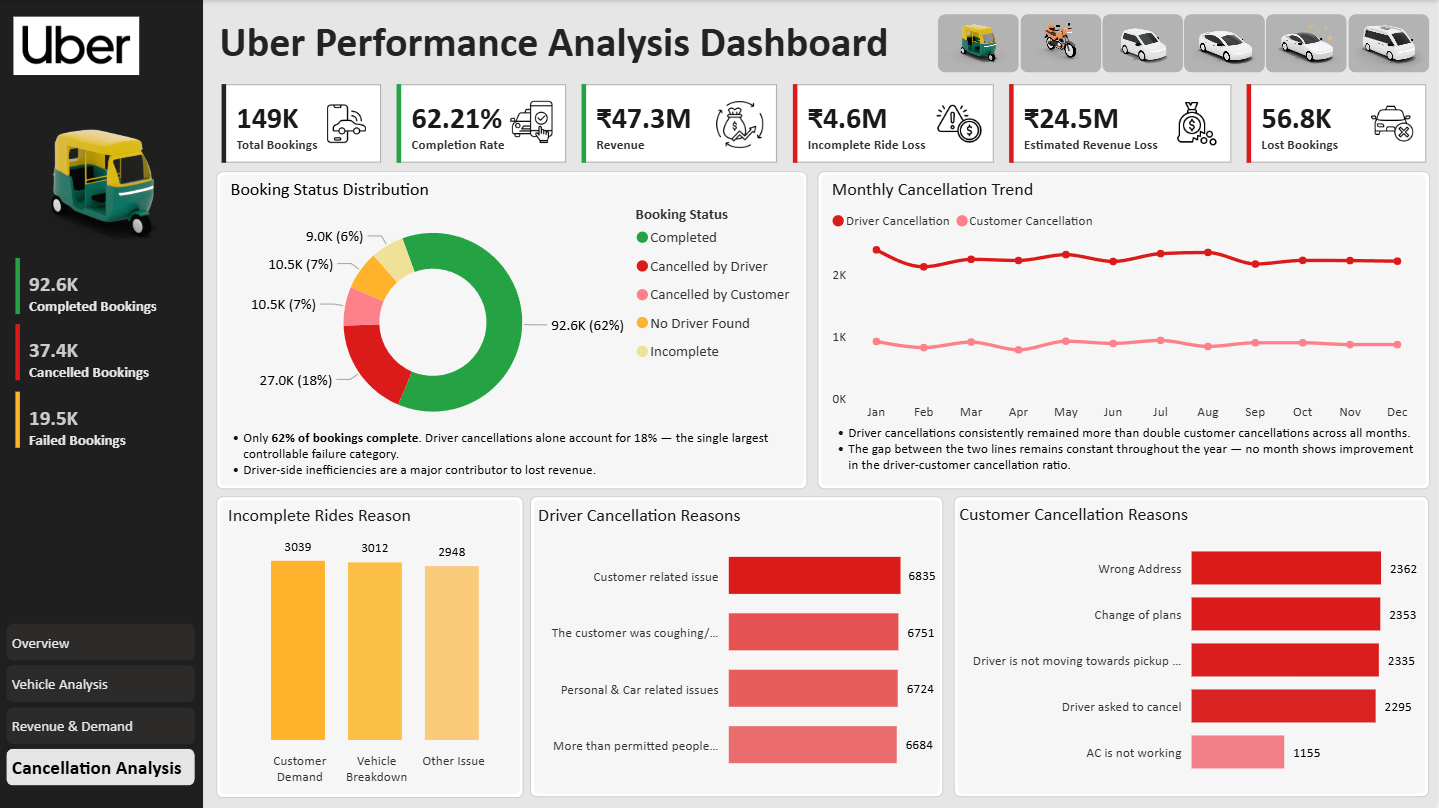

The dashboard page shown, as its layout file describes it:
{"tool":"powerbi","page":{"name":"Cancellation Analysis","canvas":[1280,720],"ordinal":3},"visuals":[{"type":"textbox","box":[190,10,640,57],"z":0},{"type":"shape","box":[727.5,152,545.3,283.5],"z":0,"group":"g6"},{"type":"shape","box":[849.7,441.6,423.5,268],"z":0,"group":"g4"},{"type":"cardVisual","fields":{"Data":["_Measures.completion_rate"]},"box":[348.6,70,161.8,80],"z":1000},{"type":"shape","box":[192.7,441.4,273.6,268.6],"z":1000,"group":"g2"},{"type":"cardVisual","fields":{"Data":["_Measures.incomplete_ride_loss"]},"box":[701.6,70,189.3,80],"z":2000},{"type":"cardVisual","fields":{"Data":["_Measures.lost_booking"]},"box":[1105.5,70,170.4,80],"z":3000},{"type":"cardVisual","fields":{"Data":["_Measures.total_bookings"]},"box":[192.7,70,152.7,80],"z":4000},{"type":"advancedSlicerVisual","fields":{"Values":["Veh_IMG.Vehicle Type"]},"box":[830,8,450,62.7],"z":5000},{"type":"cardVisual","fields":{"Data":["Min(Veh_IMG.Vehicle Type)"]},"box":[0,41,156.8,59.1],"z":6000},{"type":"cardVisual","fields":{"Data":["_Measures.estimated revenue loss"]},"box":[894.1,70,208.3,80],"z":7000},{"type":"group","id":"g1","title":"Group 1","box":[192.9,152.1,527.1,283.6],"z":8000},{"type":"lineChart","title":"Monthly Cancellation Trend","fields":{"Category":["calender.Month"],"Y":["_Measures.driver_cancellation","_Measures.customer_cancellation"]},"box":[735,157.1,530.7,220.7],"z":8000,"group":"g6"},{"type":"shape","box":[0,0,181,720.2],"z":9000,"group":"g5"},{"type":"cardVisual","fields":{"Data":["_Measures.total_booking_value"]},"box":[513.5,70,185,80],"z":9000},{"type":"image","box":[6,9.7,124.3,61.5],"z":10000,"group":"g5"},{"type":"shape","box":[192.9,152.1,526.2,283.5],"z":10000,"group":"g1"},{"type":"group","id":"g2","title":"Group 2","box":[192.7,441.4,273.6,268.6],"z":10000},{"type":"textbox","box":[731.5,372.8,541.7,56.7],"z":11000,"group":"g6"},{"type":"group","id":"g3","title":"Group 3","box":[472,442,368,268],"z":11000},{"type":"shape","box":[472,442,368,268],"z":11000,"group":"g3"},{"type":"group","id":"g4","title":"Group 4","box":[849.3,441.6,423.5,269],"z":12000},{"type":"group","id":"g5","title":"Group 5","box":[0,0,181,720.2],"z":13000},{"type":"cardVisual","fields":{"Data":["Min(Veh_IMG.Img)"]},"box":[0,53.1,181,219.6],"z":13000,"group":"g5"},{"type":"group","id":"g6","title":"Group 6","box":[727.5,152,545.7,283.5],"z":14000},{"type":"cardVisual","fields":{"Data":["_Measures.total_bookings"]},"box":[9,224.4,155.6,60.3],"z":14000,"group":"g5"},{"type":"donutChart","title":"Booking Status Distribution","fields":{"Category":["Uber.Booking Status"],"Y":["_Measures.total_bookings"]},"box":[201,157.2,517.6,239],"z":15000,"group":"g1"},{"type":"cardVisual","fields":{"Data":["_Measures.total_bookings"]},"box":[9,284.2,155,60],"z":15000,"group":"g5"},{"type":"cardVisual","fields":{"Data":["_Measures.total_bookings"]},"box":[9,344.4,155,60],"z":16000,"group":"g5"},{"type":"barChart","title":"Customer Cancellation Reasons","fields":{"Y":["_Measures.lost_booking"],"Category":["Uber.Reason for cancelling by Customer"]},"box":[849.3,447.6,419.8,254.6],"z":18000,"group":"g4"},{"type":"textbox","box":[193.5,377.1,517.6,54.7],"z":19000,"group":"g1"},{"type":"columnChart","title":"Incomplete Rides Reason","fields":{"Y":["_Measures.lost_booking"],"Category":["Uber.Incomplete Rides Reason"]},"box":[197.9,448.2,264.2,253.4],"z":19000,"group":"g2"},{"type":"barChart","title":"Driver Cancellation Reasons","fields":{"Category":["Uber.Driver Cancellation Reason"],"Y":["_Measures.lost_booking"]},"box":[474.4,448.2,364.3,253.4],"z":20000,"group":"g3"},{"type":"pageNavigator","box":[6,555,168.9,147.2],"z":22000,"group":"g5"}]}

Visuals, with their boxes in screenshot pixels (x1, y1, x2, y2), scaled from the page's 1280x720 canvas onto the 1439x808 screenshot:
textbox: pyautogui.locateOnScreen(214, 11, 933, 75)
shape: pyautogui.locateOnScreen(818, 171, 1431, 489)
shape: pyautogui.locateOnScreen(955, 496, 1431, 796)
cardVisual - _Measures.completion_rate: pyautogui.locateOnScreen(392, 79, 574, 168)
shape: pyautogui.locateOnScreen(217, 495, 524, 797)
cardVisual - _Measures.incomplete_ride_loss: pyautogui.locateOnScreen(789, 79, 1002, 168)
cardVisual - _Measures.lost_booking: pyautogui.locateOnScreen(1243, 79, 1434, 168)
cardVisual - _Measures.total_bookings: pyautogui.locateOnScreen(217, 79, 388, 168)
advancedSlicerVisual - Veh_IMG.Vehicle Type: pyautogui.locateOnScreen(933, 9, 1438, 79)
cardVisual - Min(Veh_IMG.Vehicle Type): pyautogui.locateOnScreen(0, 46, 176, 112)
cardVisual - _Measures.estimated revenue loss: pyautogui.locateOnScreen(1005, 79, 1239, 168)
"Group 1" group: pyautogui.locateOnScreen(217, 171, 809, 489)
"Monthly Cancellation Trend" lineChart: pyautogui.locateOnScreen(826, 176, 1423, 424)
shape: pyautogui.locateOnScreen(0, 0, 203, 807)
cardVisual - _Measures.total_booking_value: pyautogui.locateOnScreen(577, 79, 785, 168)
image: pyautogui.locateOnScreen(7, 11, 146, 80)
shape: pyautogui.locateOnScreen(217, 171, 808, 489)
"Group 2" group: pyautogui.locateOnScreen(217, 495, 524, 797)
textbox: pyautogui.locateOnScreen(822, 418, 1431, 482)
"Group 3" group: pyautogui.locateOnScreen(531, 496, 944, 797)
shape: pyautogui.locateOnScreen(531, 496, 944, 797)
"Group 4" group: pyautogui.locateOnScreen(955, 496, 1431, 797)
"Group 5" group: pyautogui.locateOnScreen(0, 0, 203, 807)
cardVisual - Min(Veh_IMG.Img): pyautogui.locateOnScreen(0, 60, 203, 306)
"Group 6" group: pyautogui.locateOnScreen(818, 171, 1431, 489)
cardVisual - _Measures.total_bookings: pyautogui.locateOnScreen(10, 252, 185, 319)
"Booking Status Distribution" donutChart: pyautogui.locateOnScreen(226, 176, 808, 445)
cardVisual - _Measures.total_bookings: pyautogui.locateOnScreen(10, 319, 184, 386)
cardVisual - _Measures.total_bookings: pyautogui.locateOnScreen(10, 386, 184, 454)
"Customer Cancellation Reasons" barChart: pyautogui.locateOnScreen(955, 502, 1427, 788)
textbox: pyautogui.locateOnScreen(218, 423, 799, 485)
"Incomplete Rides Reason" columnChart: pyautogui.locateOnScreen(222, 503, 520, 787)
"Driver Cancellation Reasons" barChart: pyautogui.locateOnScreen(533, 503, 943, 787)
pageNavigator: pyautogui.locateOnScreen(7, 623, 197, 788)
